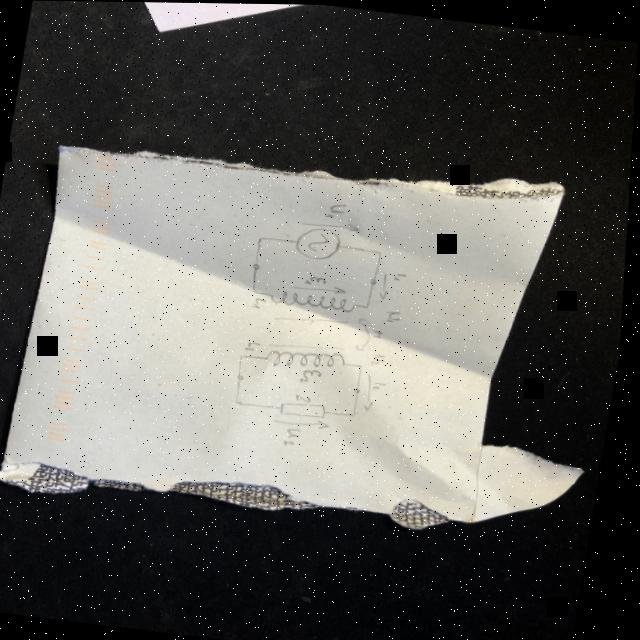junction: (378, 247, 388, 254), (237, 397, 247, 404), (353, 410, 363, 417), (366, 301, 375, 308), (258, 233, 267, 240), (254, 286, 263, 293), (360, 360, 369, 367), (242, 350, 251, 357)
resistor: (284, 397, 332, 418)
source: (296, 223, 346, 260)
text: (326, 200, 351, 218), (303, 365, 327, 383), (288, 424, 307, 446), (306, 273, 331, 285), (387, 307, 406, 321), (253, 295, 272, 308), (248, 339, 267, 351), (375, 351, 390, 364), (298, 392, 317, 402), (376, 379, 392, 390), (396, 270, 411, 279), (375, 328, 388, 337)
transformer: (262, 286, 362, 374)
